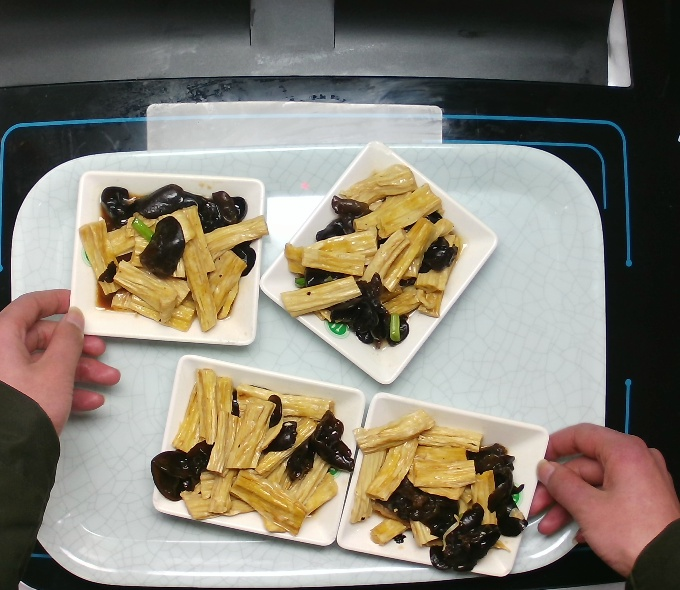wcq-MuErFuZhu: (143, 364, 352, 534), (283, 162, 461, 355), (347, 410, 524, 569), (84, 180, 260, 337)
